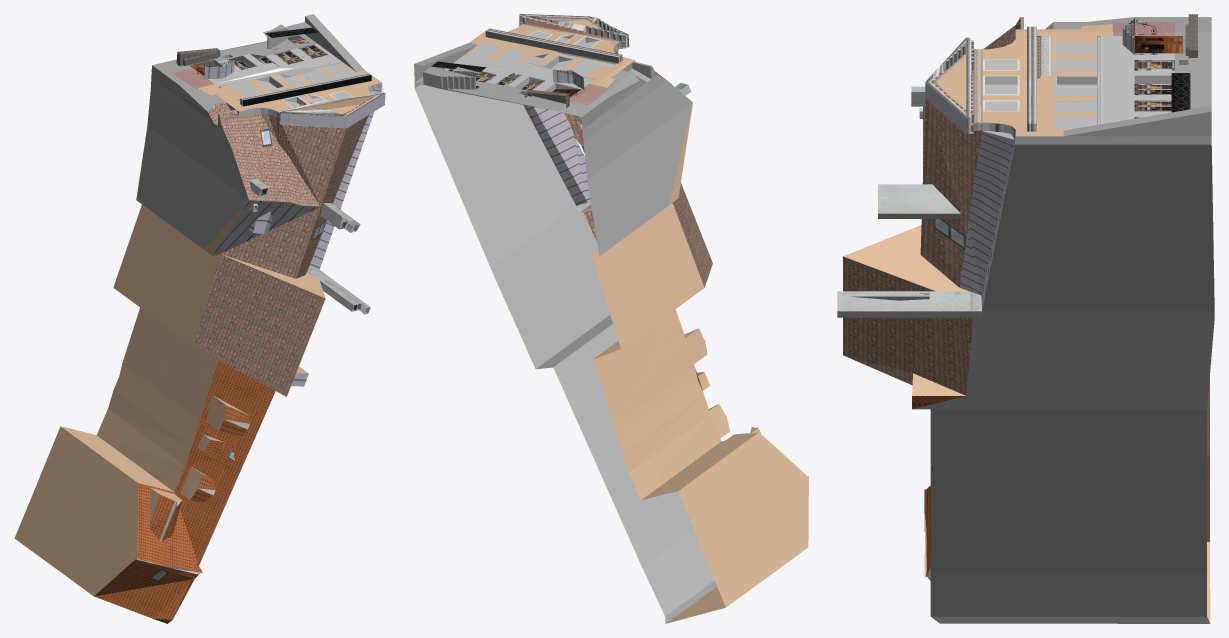
File: Kuninga_3-origo.obj
3 views of the same model, side by side, from view 1: azimuth 30°, elevation 25°; view 2: azimuth 150°, elevation 25°; view 3: azimuth 270°, elevation 25° (orthographic). The views are drawn at different scales.
Parts seen in each view (by area): view 1: Kuninga_3, xxx; view 2: Kuninga_3, xxx; view 3: xxx, Kuninga_3.
Part boxes in pixels (bbox=[...]): Kuninga_3: bbox=[14, 14, 385, 623]; xxx: bbox=[136, 77, 326, 564]; Kuninga_3: bbox=[414, 14, 808, 623]; xxx: bbox=[414, 58, 716, 623]; xxx: bbox=[912, 136, 1214, 623]; Kuninga_3: bbox=[837, 14, 1211, 622].
Size of the model in its own units: 26.44 by 40.5 by 20.41.
